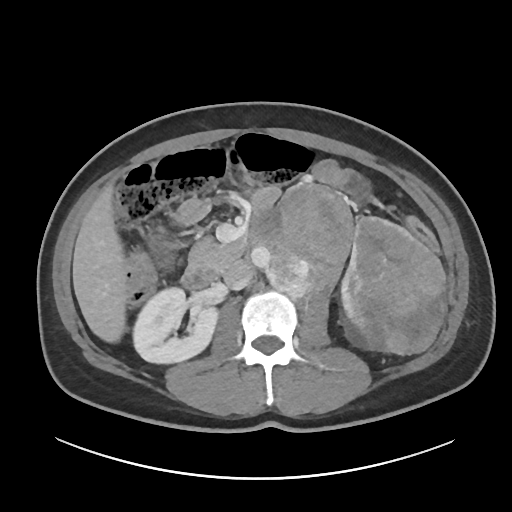Lesion: (353, 215, 449, 329)
